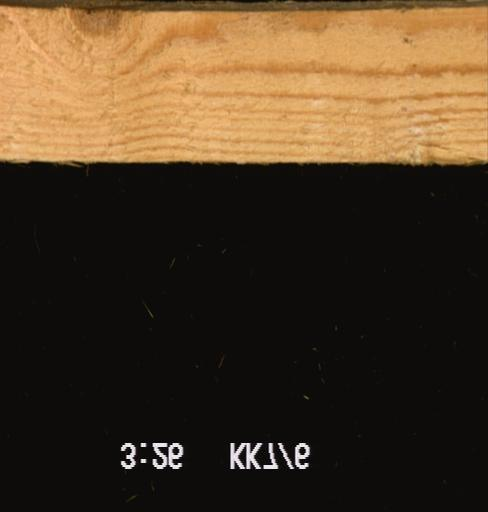edge_knot: (64, 5, 124, 54)
